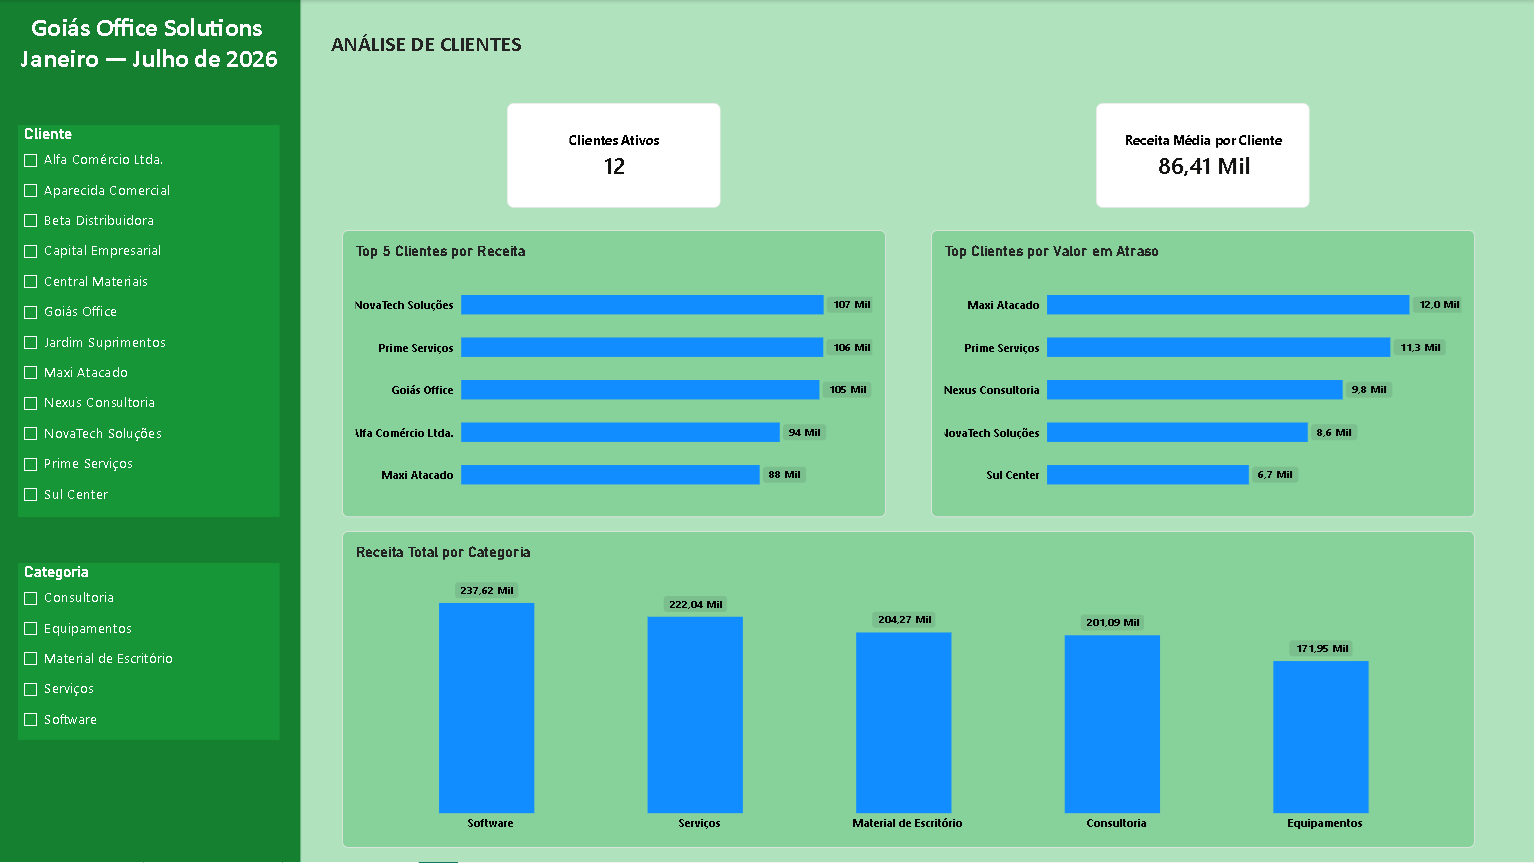

Layout of this report page (visuals, bound fields, positions):
{"tool":"powerbi","page":{"name":"Análise de Clientes","canvas":[1920,1080],"ordinal":1},"visuals":[{"type":"textbox","box":[415.7,41.4,254.3,75.7],"z":0},{"type":"cardVisual","fields":{"Data":["Base_Dados.Clientes Ativos"]},"box":[636.2,131.2,267,131.4],"z":1000},{"type":"cardVisual","fields":{"Data":["Base_Dados.Receita Média por Cliente"]},"box":[1372.5,131.2,267.1,131.4],"z":2000},{"type":"barChart","title":"Top 5 Clientes por Receita","fields":{"Category":["Base_Dados.Cliente"],"Y":["Base_Dados.Receita Total"]},"box":[430,290,680,358.6],"z":3000},{"type":"barChart","title":"Top Clientes por Valor em Atraso","fields":{"Category":["Base_Dados.Cliente"],"Y":["Base_Dados.Valor em Atraso"]},"box":[1165.7,290,680,358.6],"z":4000},{"type":"shape","box":[0,0,378.3,1080],"z":4500},{"type":"columnChart","fields":{"Category":["Base_Dados.Categoria"],"Y":["Base_Dados.Receita Total"]},"box":[430,665.7,1415.7,395.7],"z":5000},{"type":"slicer","fields":{"Values":["Base_Dados.Cliente"]},"box":[25,158.8,327.1,490],"z":6000},{"type":"slicer","fields":{"Values":["Base_Dados.Categoria"]},"box":[25,706.2,327.1,221.4],"z":7000},{"type":"textbox","box":[0,17.1,378.6,137.1],"z":9002}]}

Visuals, with their boxes in screenshot pixels (x1, y1, x2, y2), scaled from the page's 1920x1080 canvas onto the 1534x863 screenshot:
textbox: left=332, top=33, right=535, bottom=94
cardVisual - Base_Dados.Clientes Ativos: left=508, top=105, right=722, bottom=210
cardVisual - Base_Dados.Receita Média por Cliente: left=1097, top=105, right=1310, bottom=210
"Top 5 Clientes por Receita" barChart: left=344, top=232, right=887, bottom=518
"Top Clientes por Valor em Atraso" barChart: left=931, top=232, right=1475, bottom=518
shape: left=0, top=0, right=302, bottom=862
columnChart - Base_Dados.Categoria x Base_Dados.Receita Total: left=344, top=532, right=1475, bottom=848
slicer - Base_Dados.Cliente: left=20, top=127, right=281, bottom=518
slicer - Base_Dados.Categoria: left=20, top=564, right=281, bottom=741
textbox: left=0, top=14, right=302, bottom=123
